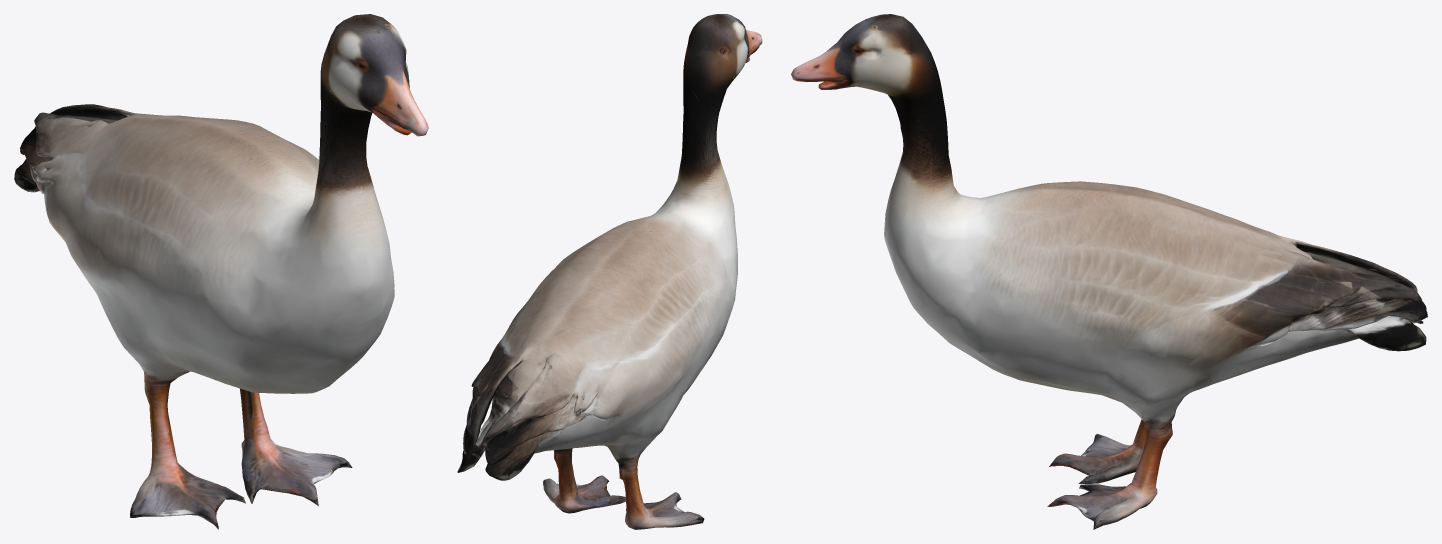
Rendered from goose_texture.obj.
The picture shows the model from 3 angles, left to right: view 1: azimuth 30°, elevation 25°; view 2: azimuth 150°, elevation 25°; view 3: azimuth 270°, elevation 25°; orthographic projection. The views are drawn at different scales.
Parts seen in each view (by area): view 1: goose_texture; view 2: goose_texture; view 3: goose_texture.
Boxes of the visible parts, left/top/right/bottom form: goose_texture: left=14, top=14, right=428, bottom=529; goose_texture: left=457, top=14, right=762, bottom=529; goose_texture: left=791, top=14, right=1427, bottom=529.
Size of the model in its own units: 0.6589 by 1.63 by 2.
1 material, 1 textured.
